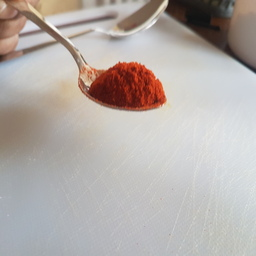Red chilli: (91, 60, 170, 112)
